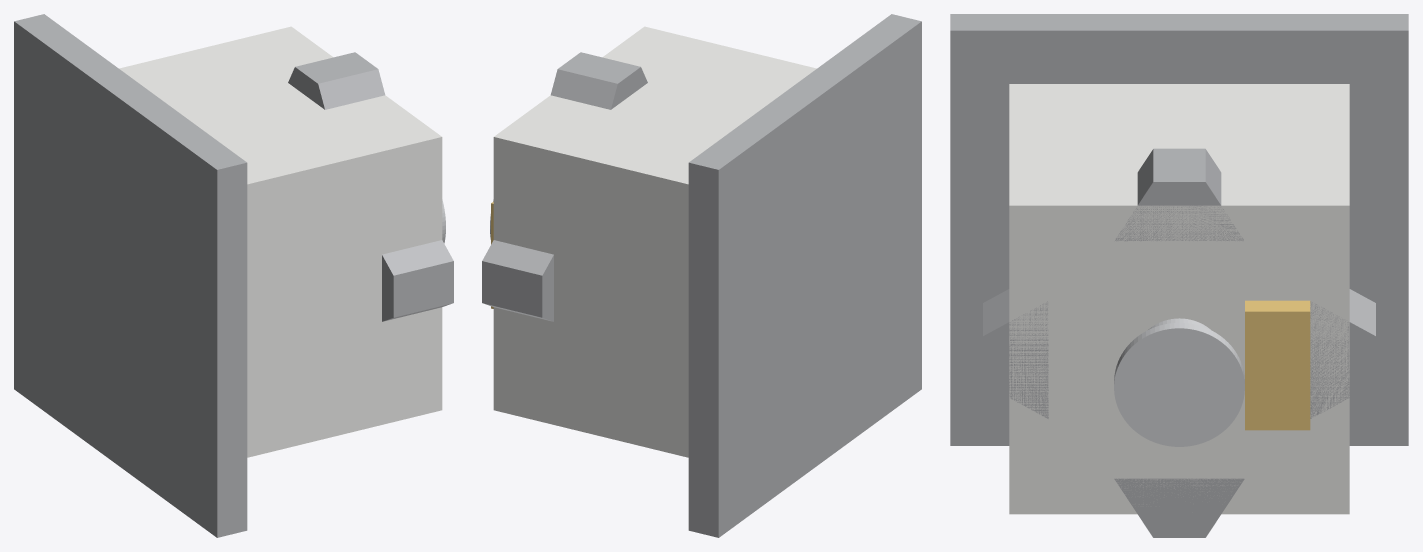
The model's file is station15_grapple_fixture_pdgf.glb.
3 renders of one model, left to right at view 1: azimuth 30°, elevation 25°; view 2: azimuth 150°, elevation 25°; view 3: azimuth 270°, elevation 25°, orthographic. The views are drawn at different scales.
Parts seen in each view (by area): view 1: base_plate, body, petals; view 2: base_plate, body, petals; view 3: body, base_plate, petals, grapple_shaft, connector.
Part boxes in pixels (box(x1,y1,x2,y2)): base_plate: box(14, 14, 247, 537); body: box(119, 26, 442, 457); petals: box(288, 52, 453, 321); base_plate: box(688, 14, 921, 537); body: box(493, 26, 816, 457); petals: box(482, 52, 647, 321); body: box(1009, 84, 1349, 514); base_plate: box(950, 14, 1408, 445); petals: box(983, 148, 1375, 537); grapple_shaft: box(1114, 318, 1244, 446); connector: box(1245, 300, 1310, 430).
Size of the model in its own units: 0.3 by 0.35 by 0.35.
